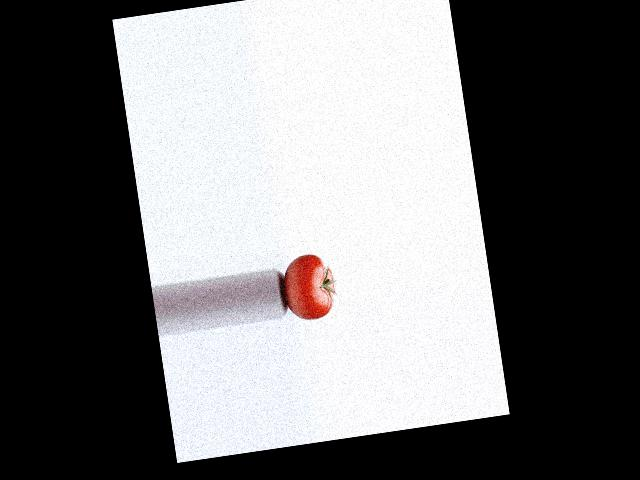tomato: (279, 251, 339, 323)
